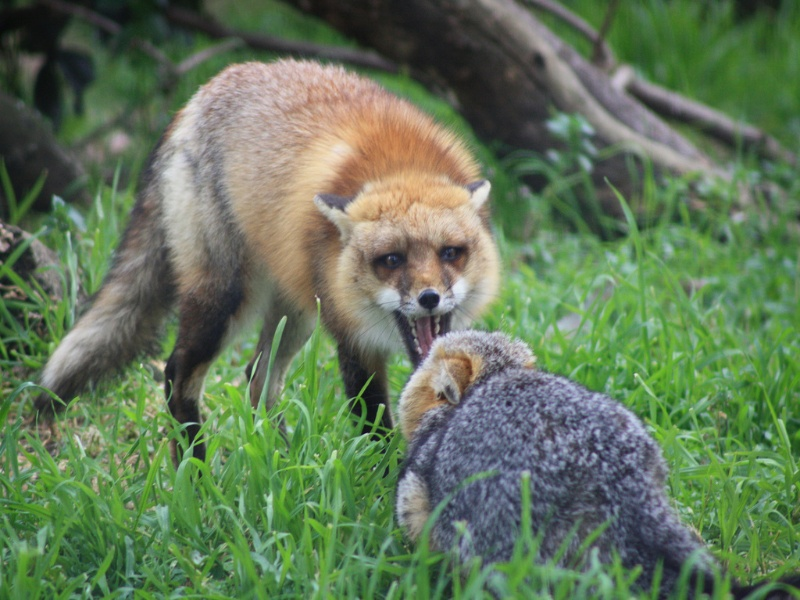fox: (33, 53, 500, 474)
